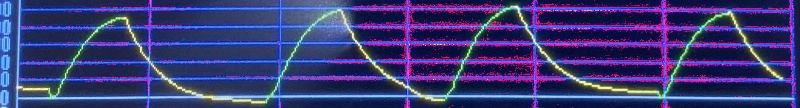normal_volume: (16, 1, 778, 108)
